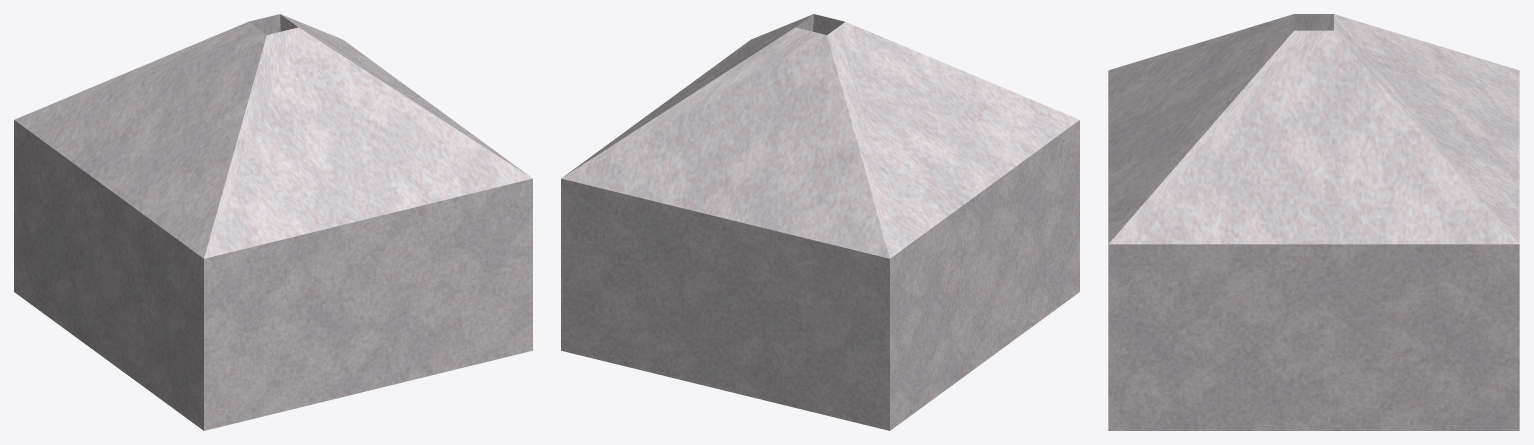
The model's file is plainWalls.fbx.
3 views of the same model, side by side, from view 1: azimuth 30°, elevation 25°; view 2: azimuth 150°, elevation 25°; view 3: azimuth 270°, elevation 25° (orthographic). The views are drawn at different scales.
Parts seen in each view (by area): view 1: Walls; view 2: Walls; view 3: Walls.
Boxes of the visible parts, x1,y1,x2,y2 form: Walls: (14,14,532,430); Walls: (561,14,1079,430); Walls: (1108,14,1519,430).
Size of the model in its own units: 10.5 by 9.05 by 10.5.
